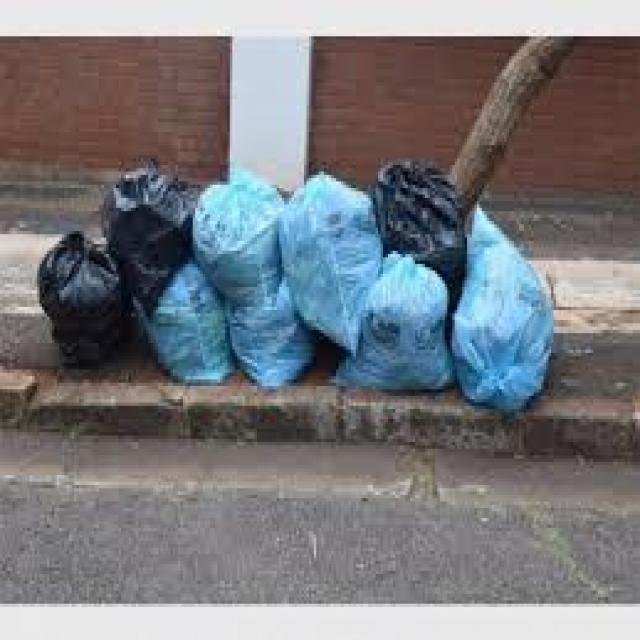plastic_bag: (283, 193, 372, 335), (38, 230, 122, 352), (382, 166, 468, 262), (110, 173, 191, 268)
